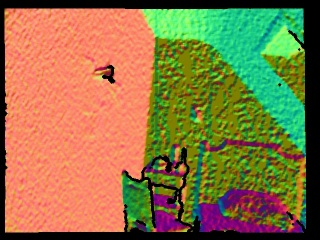station: (169, 144, 188, 175)
